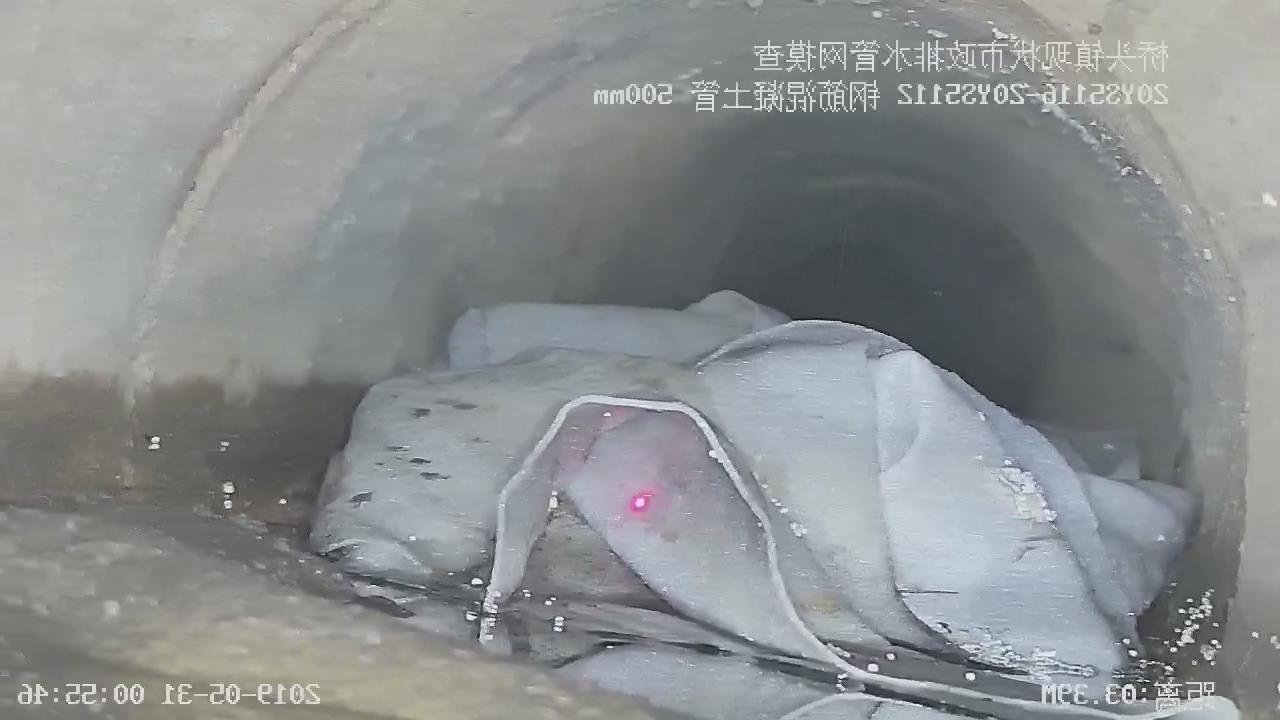ZAW: (310, 292, 1238, 719)
